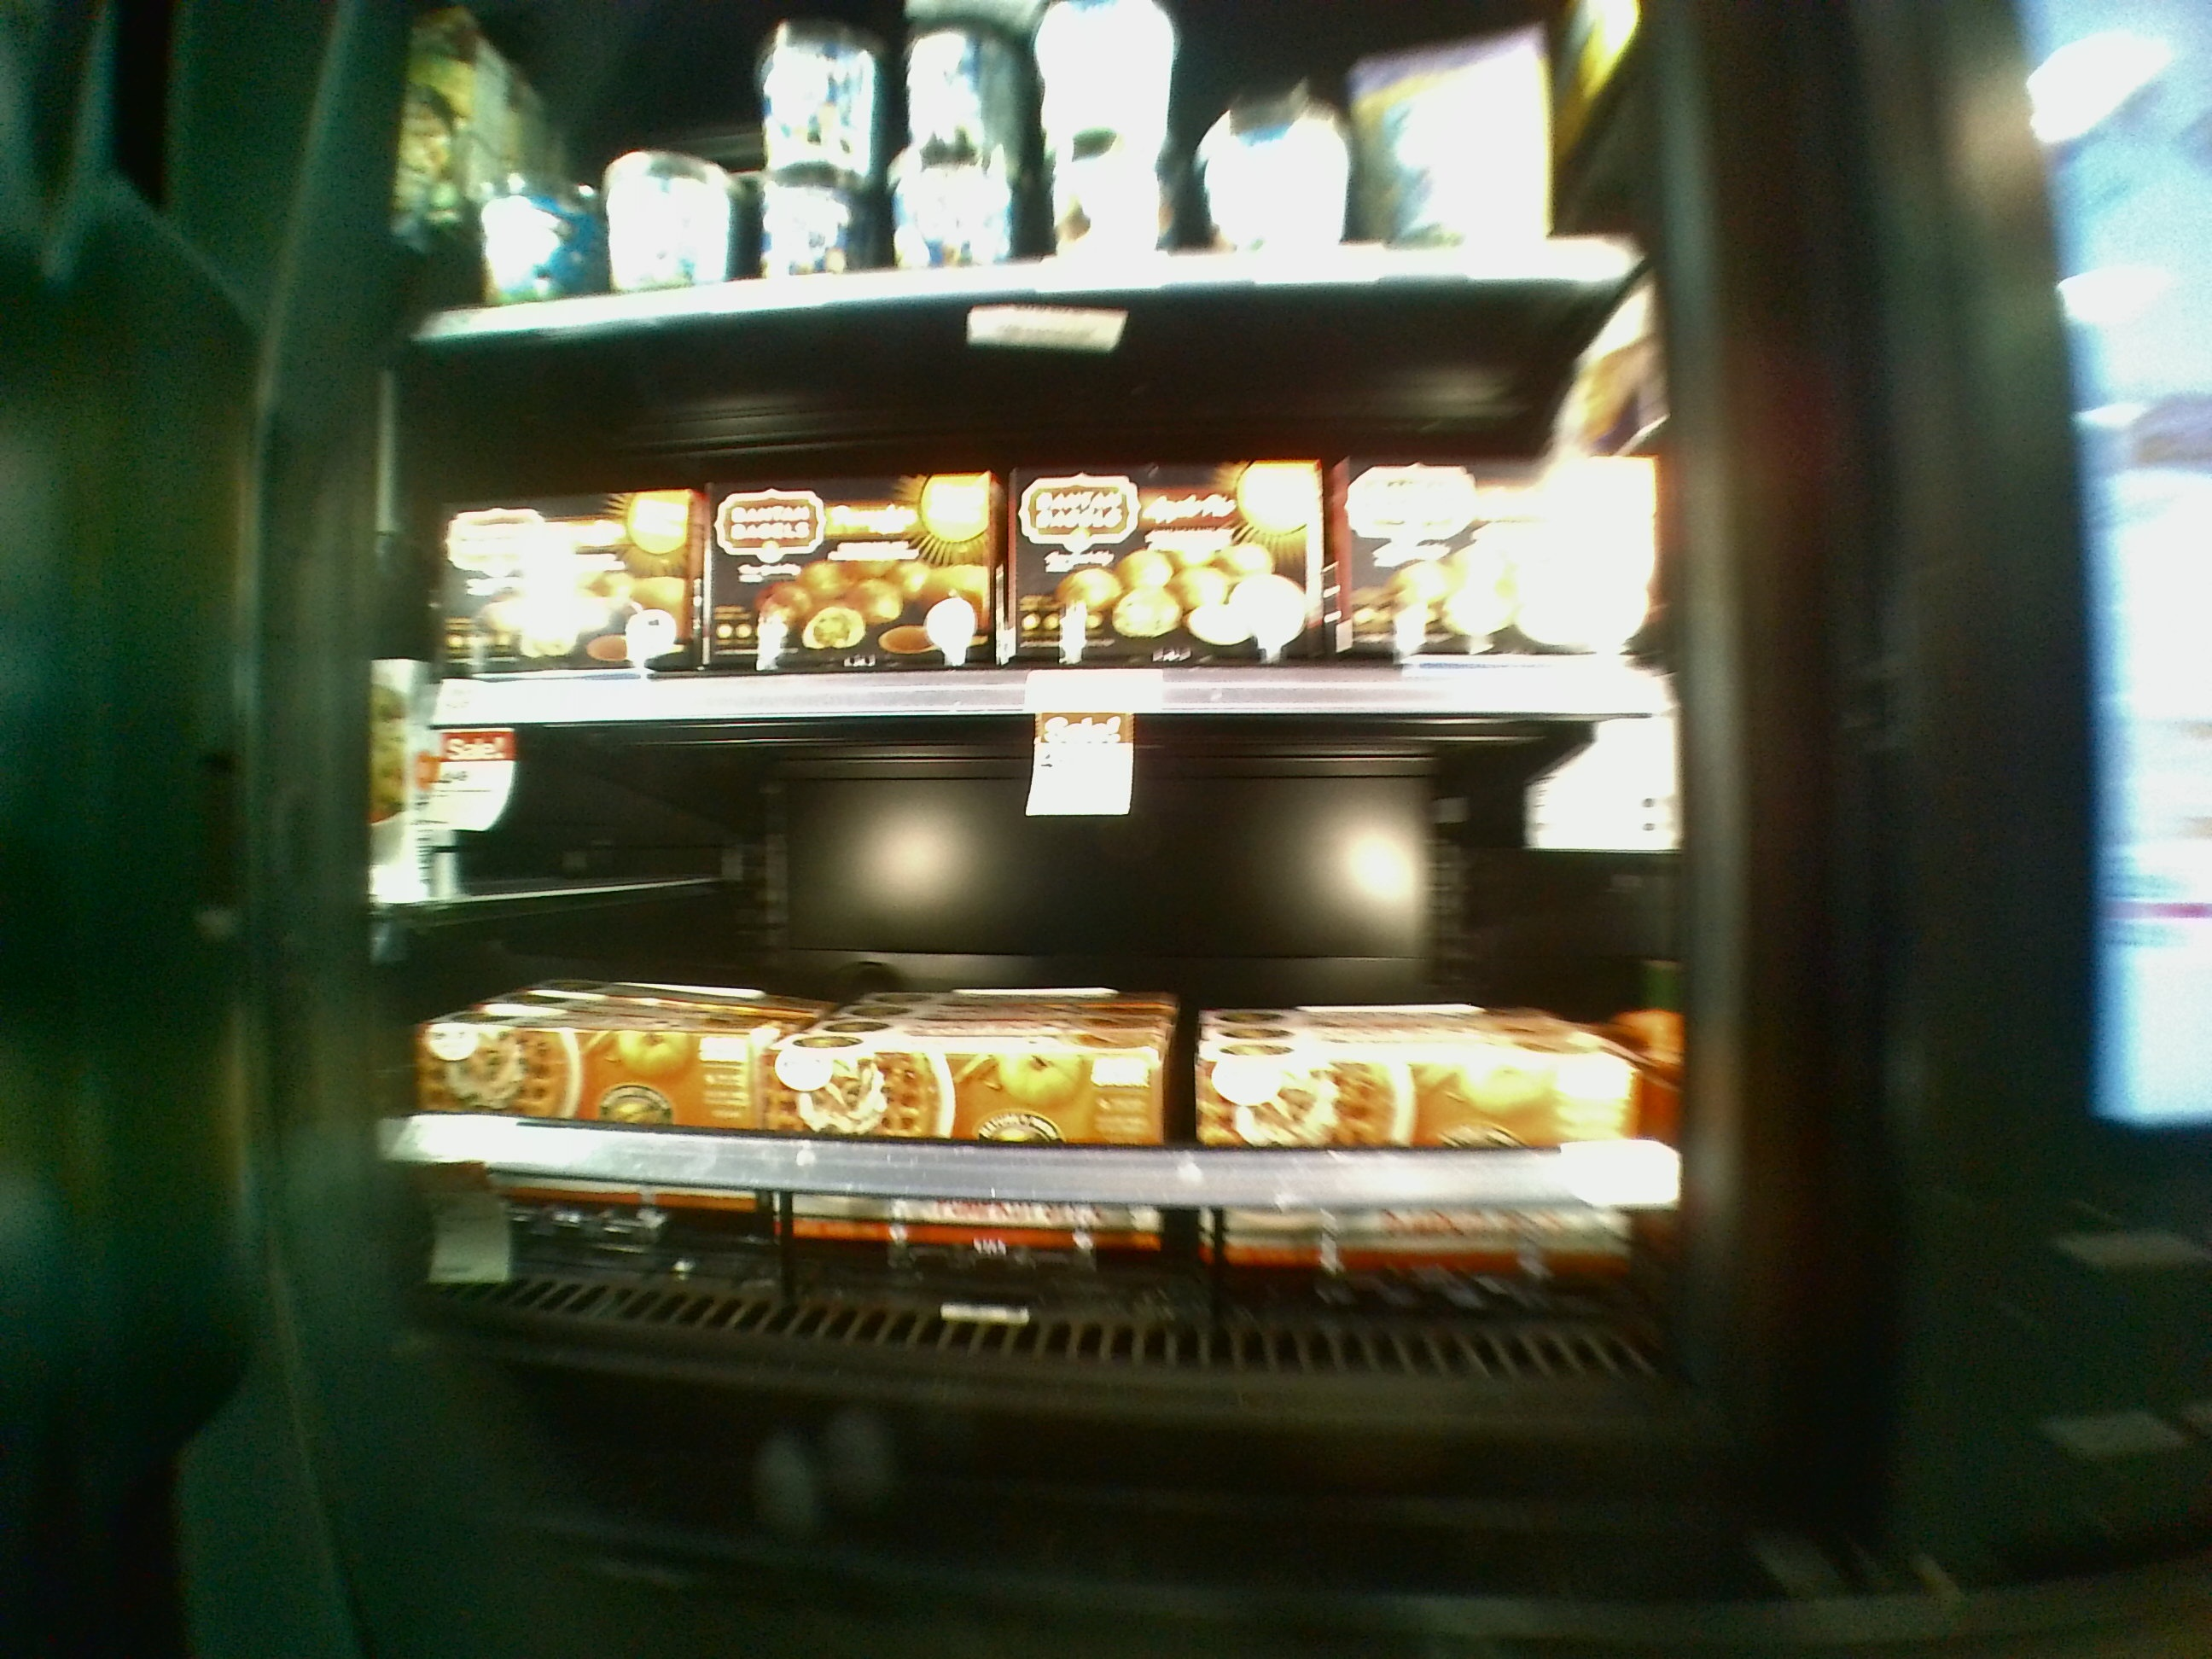shelf: (381, 690, 1688, 1410), (388, 291, 1655, 708)
